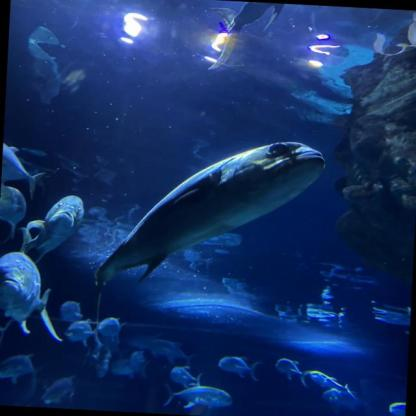fish: (96, 132, 327, 296), (209, 0, 310, 77), (0, 252, 66, 342), (19, 193, 84, 263), (1, 139, 47, 194), (165, 384, 233, 411), (0, 186, 28, 245), (0, 352, 44, 384), (323, 390, 377, 412), (217, 355, 261, 379), (42, 375, 76, 406), (148, 341, 193, 362), (91, 342, 114, 383), (275, 358, 311, 384), (64, 318, 100, 344), (111, 358, 148, 380), (309, 370, 349, 390), (170, 365, 204, 385), (100, 317, 124, 342), (129, 334, 165, 350), (60, 301, 84, 321), (0, 314, 12, 350), (388, 402, 406, 415)
